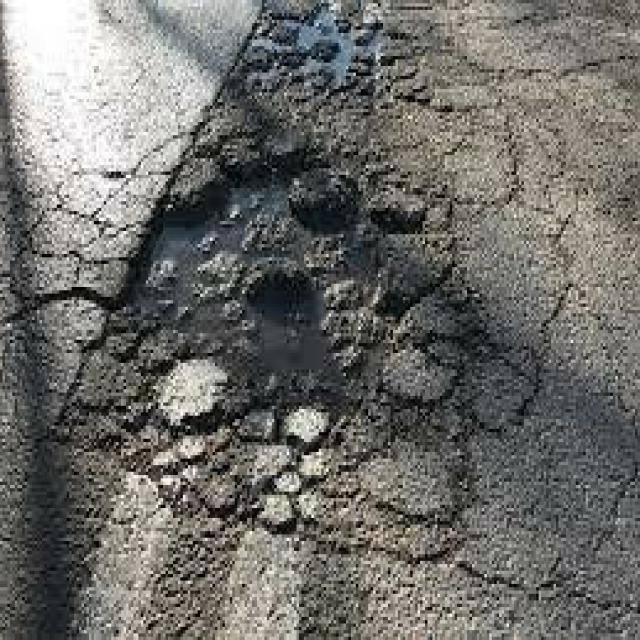pothole: (17, 40, 482, 552)
